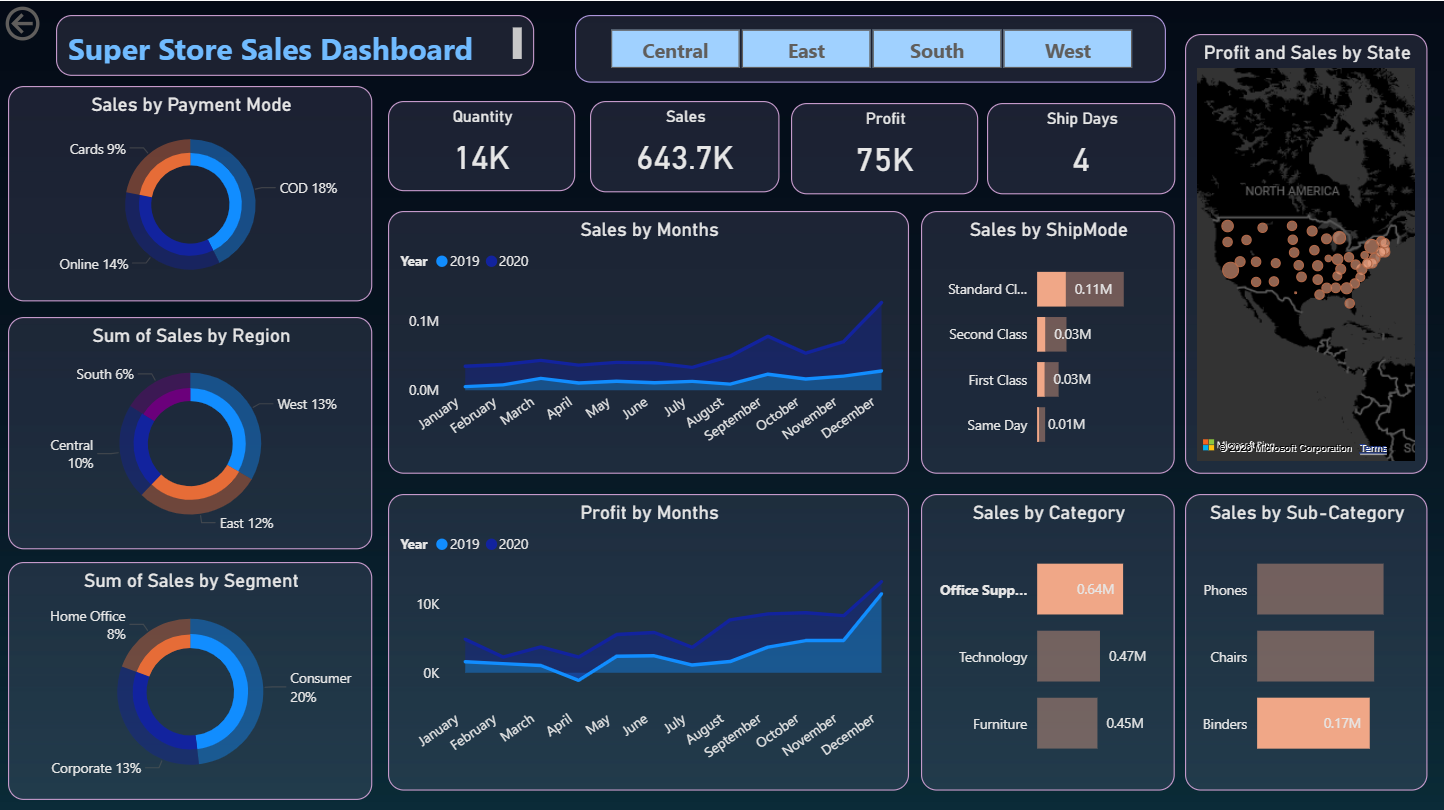

The dashboard page shown, as its layout file describes it:
{"tool":"powerbi","page":{"name":"Duplicate of Page 1","canvas":[1280,720],"ordinal":0},"visuals":[{"type":"clusteredBarChart","title":"Sales by Sub-Category","fields":{"Category":["SuperStore_Sales_Dataset.Sub-Category"],"Y":["Sum(SuperStore_Sales_Dataset.Sales)"]},"box":[1051,437,215,263],"z":0},{"type":"clusteredBarChart","title":"Sales by ShipMode","fields":{"Category":["SuperStore_Sales_Dataset.Ship Mode"],"Y":["Sum(SuperStore_Sales_Dataset.Sales)"]},"box":[817,186,225,233],"z":1000},{"type":"stackedAreaChart","title":" Sales by Months","fields":{"Y":["Sum(SuperStore_Sales_Dataset.Sales)"],"Category":["SuperStore_Sales_Dataset.Order Date.Variation.Date Hierarchy.Month","SuperStore_Sales_Dataset.Order Date.Variation.Date Hierarchy.Day"],"Series":["SuperStore_Sales_Dataset.Order Date.Variation.Date Hierarchy.Year"]},"box":[344,186,462,233],"z":2000},{"type":"stackedAreaChart","title":"Profit by Months","fields":{"Category":["SuperStore_Sales_Dataset.Order Date.Variation.Date Hierarchy.Month","SuperStore_Sales_Dataset.Order Date.Variation.Date Hierarchy.Day"],"Series":["SuperStore_Sales_Dataset.Order Date.Variation.Date Hierarchy.Year"],"Y":["Sum(SuperStore_Sales_Dataset.Profit)"]},"box":[344,437,462,263],"z":3000},{"type":"donutChart","fields":{"Category":["SuperStore_Sales_Dataset.Segment"],"Y":["Sum(SuperStore_Sales_Dataset.Sales)"]},"box":[6.7,497.8,323.3,211.1],"z":4000},{"type":"clusteredBarChart","title":"Sales by Category","fields":{"Category":["SuperStore_Sales_Dataset.Category"],"Y":["Sum(SuperStore_Sales_Dataset.Sales)"]},"box":[817,437,225,263],"z":5000},{"type":"donutChart","fields":{"Category":["SuperStore_Sales_Dataset.Region"],"Y":["Sum(SuperStore_Sales_Dataset.Sales)"]},"box":[6.7,280,323.3,205.6],"z":6000},{"type":"slicer","fields":{"Values":["SuperStore_Sales_Dataset.Region"]},"box":[509.9,12.4,524,60.3],"z":7000},{"type":"textbox","box":[49.7,12.4,423.8,54.1],"z":8000},{"type":"card","title":"Sales","fields":{"Values":["Sum(SuperStore_Sales_Dataset.Sales)"]},"box":[523,89,168,81],"z":9000},{"type":"card","title":"Quantity","fields":{"Values":["Sum(SuperStore_Sales_Dataset.Quantity)"]},"box":[344,89,166,80],"z":10000},{"type":"card","title":"Profit","fields":{"Values":["Sum(SuperStore_Sales_Dataset.Profit)"]},"box":[701,90,166,81],"z":11000},{"type":"card","title":"Ship Days","fields":{"Values":["Avg(SuperStore_Sales_Dataset.AvgDelivery)"]},"box":[875,90,167,81],"z":12000},{"type":"actionButton","box":[0,0,100,40],"z":13000},{"type":"map","title":" Profit and Sales by State","fields":{"Category":["SuperStore_Sales_Dataset.State"],"Size":["Sum(SuperStore_Sales_Dataset.Profit)"]},"box":[1051,29,215,390],"z":14000},{"type":"donutChart","title":"Sales by Payment Mode","fields":{"Category":["SuperStore_Sales_Dataset.Payment Mode"],"Y":["Sum(SuperStore_Sales_Dataset.Sales)"]},"box":[6.7,75.6,323.3,191.1],"z":15000}]}

Visuals, with their boxes in screenshot pixels (x1, y1, x2, y2), scaled from the page's 1280x720 canvas onto the 1444x810 screenshot:
"Sales by Sub-Category" clusteredBarChart: [1186,492,1428,788]
"Sales by ShipMode" clusteredBarChart: [922,209,1176,471]
" Sales by Months" stackedAreaChart: [388,209,909,471]
"Profit by Months" stackedAreaChart: [388,492,909,788]
donutChart - SuperStore_Sales_Dataset.Segment x Sum(SuperStore_Sales_Dataset.Sales): [8,560,372,798]
"Sales by Category" clusteredBarChart: [922,492,1176,788]
donutChart - SuperStore_Sales_Dataset.Region x Sum(SuperStore_Sales_Dataset.Sales): [8,315,372,546]
slicer - SuperStore_Sales_Dataset.Region: [575,14,1166,82]
textbox: [56,14,534,75]
"Sales" card: [590,100,780,191]
"Quantity" card: [388,100,575,190]
"Profit" card: [791,101,978,192]
"Ship Days" card: [987,101,1176,192]
actionButton: [0,0,113,45]
" Profit and Sales by State" map: [1186,33,1428,471]
"Sales by Payment Mode" donutChart: [8,85,372,300]
